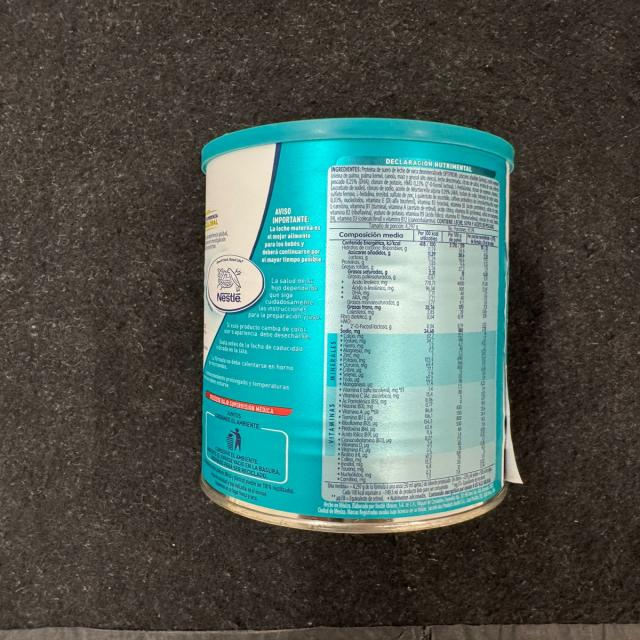NAN 1 OPTIPRO Formula Infantil 12x400gMX: (199, 115, 514, 536)
